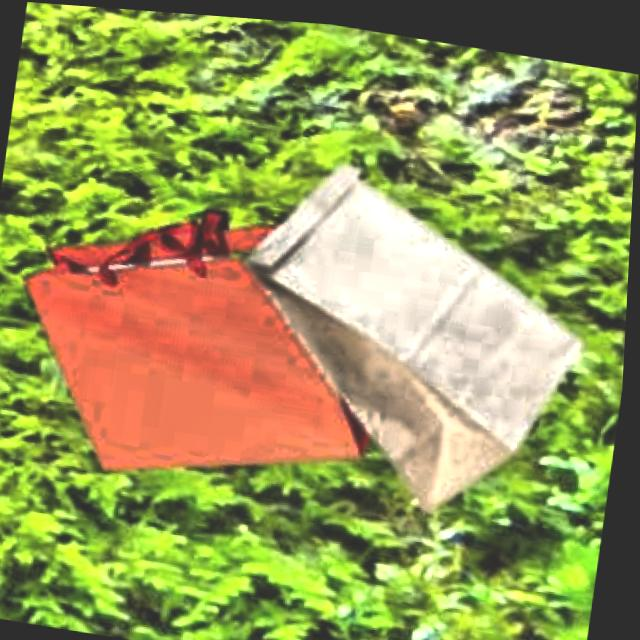Paper-bag: (210, 120, 615, 538), (10, 176, 408, 508)
